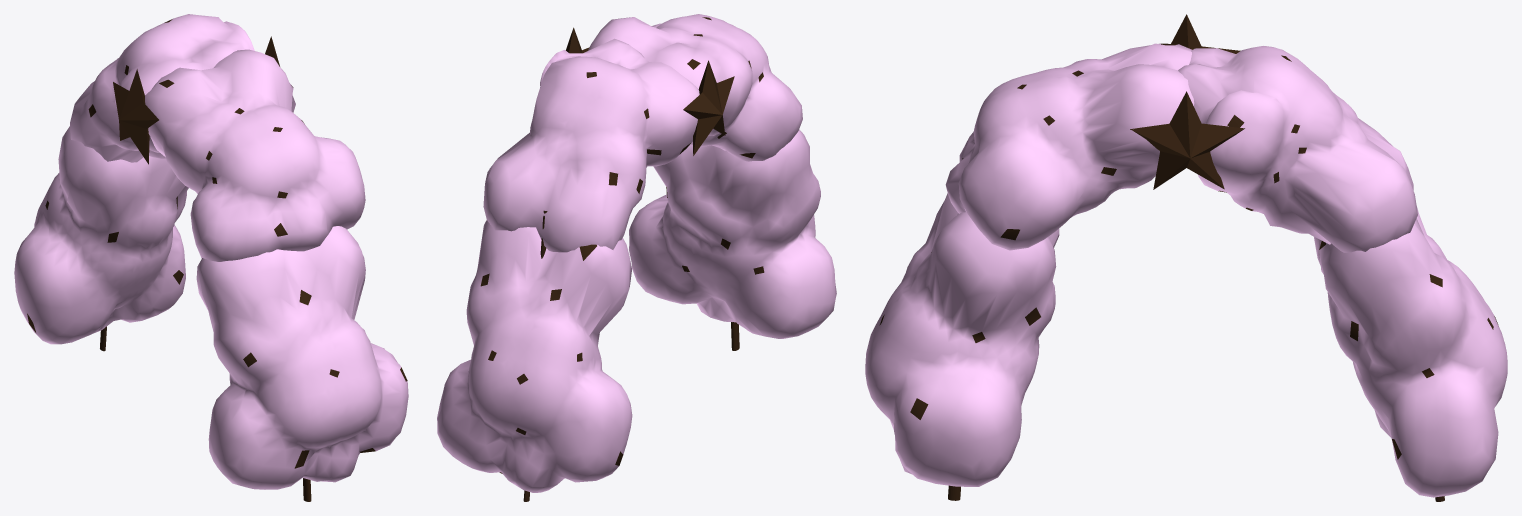
Rendered from mazeGateJelly.fbx.
The picture shows the model from 3 angles, left to right: view 1: azimuth 30°, elevation 25°; view 2: azimuth 150°, elevation 25°; view 3: azimuth 270°, elevation 25°; orthographic projection. The views are drawn at different scales.
Visible parts, largest first — view 1: polySurface8, polySurface14, polySurface12, polySurface13, estrellica:pCylinder1; view 2: polySurface12, polySurface8, polySurface13, polySurface14, estrellica:pCylinder1; view 3: polySurface8, polySurface12, polySurface14, polySurface13, pCylinder1.
Part boxes in pixels (x1,y1,x2,y2): polySurface8: [196, 226, 408, 489]; polySurface14: [145, 49, 365, 261]; polySurface12: [14, 126, 188, 344]; polySurface13: [70, 14, 254, 162]; estrellica:pCylinder1: [113, 69, 158, 164]; polySurface12: [437, 220, 632, 492]; polySurface8: [629, 129, 836, 338]; polySurface13: [483, 38, 699, 252]; polySurface14: [588, 14, 802, 161]; estrellica:pCylinder1: [683, 60, 734, 155]; polySurface8: [865, 193, 1059, 486]; polySurface12: [1314, 206, 1507, 497]; polySurface14: [945, 43, 1194, 250]; polySurface13: [1178, 46, 1417, 252]; pCylinder1: [1130, 91, 1244, 189].
Bounding box in the file's own units: 11.42 × 22.33 × 28.98.
